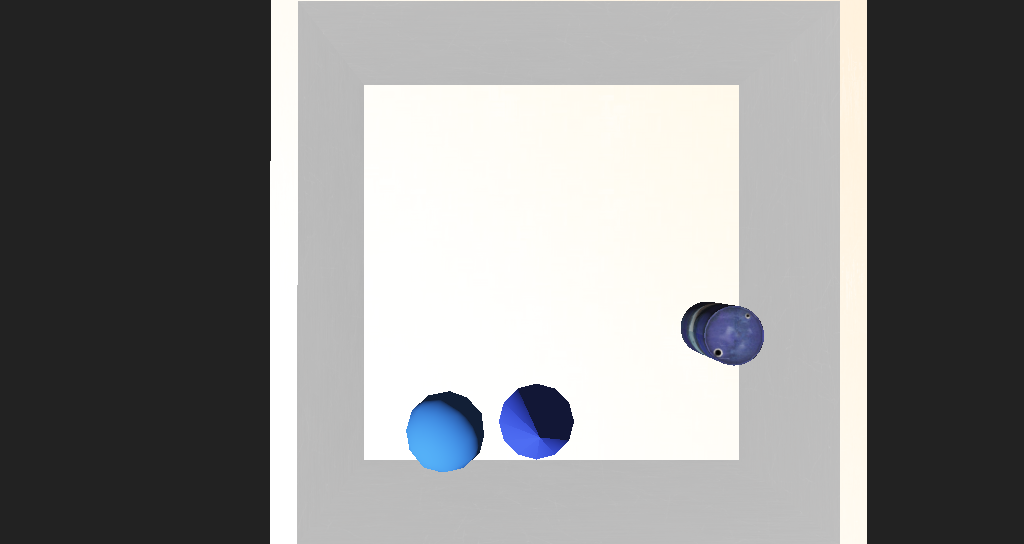cone: (610, 289, 670, 322)
cylinder: (458, 332, 525, 384)
sphere: (394, 334, 455, 382)
